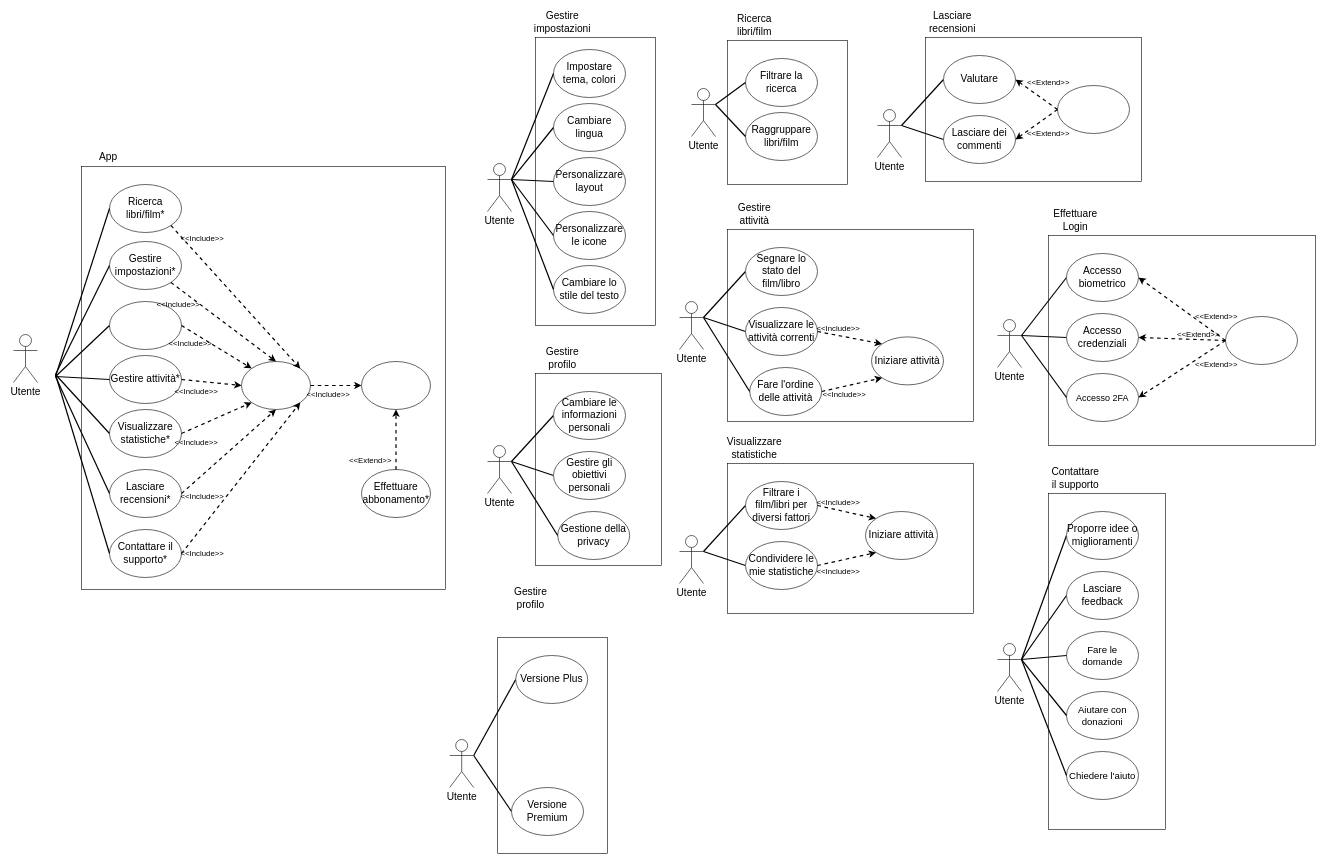
The diagram is 1326 pixels wide and 864 high, and some of its shapes have lost their labels. The shapes that lost their labels are listed below. From the top down, each one's box as (x1, y1, x2, y2) in pixels, then its label:
(1057, 85, 1130, 134): Modificare o cancellare recensione
(109, 301, 182, 350): Gestire profilo*
(1225, 316, 1298, 364): Recupero credenziali
(241, 361, 310, 410): Effettuare Login*
(361, 361, 430, 410): Creare il profilo
